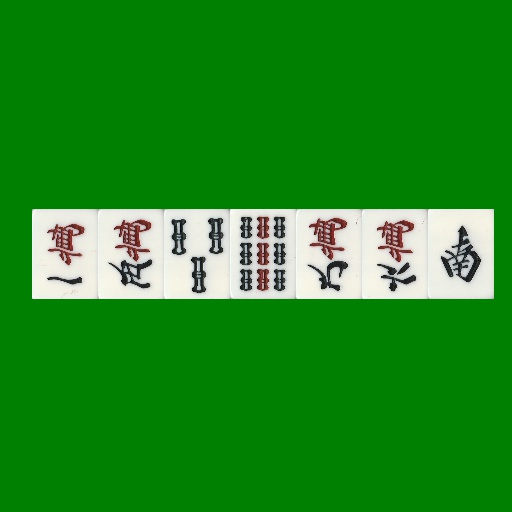1m: (32, 209, 98, 299)
3s: (164, 209, 230, 299)
5m: (98, 209, 164, 299)
6m: (362, 209, 428, 299)
9m: (296, 209, 362, 299)
9s: (230, 209, 296, 299)
south: (428, 209, 494, 299)
